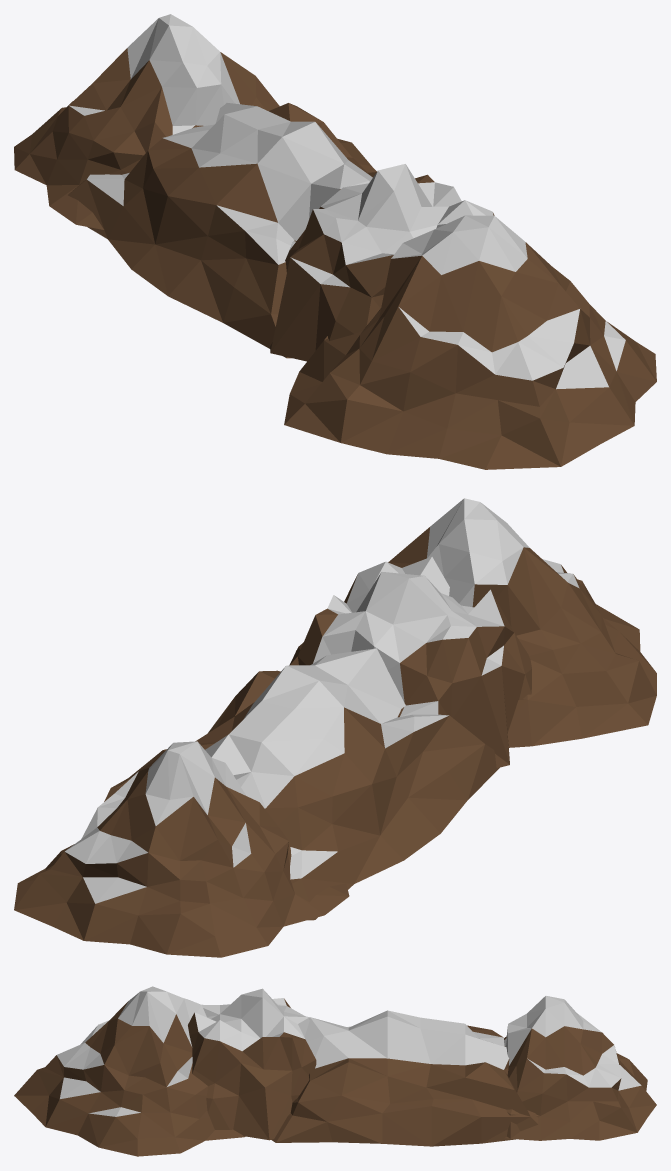
Rendered from mountainDN.fbx.
3 renders of one model, top to bottom at view 1: azimuth 30°, elevation 25°; view 2: azimuth 150°, elevation 25°; view 3: azimuth 270°, elevation 25°, orthographic. The views are drawn at different scales.
Parts seen in each view (by area): view 1: SM_mountain_group_W1; view 2: SM_mountain_group_W1; view 3: SM_mountain_group_W1.
Boxes of the visible parts, bbox=[...] form: SM_mountain_group_W1: bbox=[14, 14, 656, 469]; SM_mountain_group_W1: bbox=[14, 498, 656, 957]; SM_mountain_group_W1: bbox=[14, 986, 656, 1156].
Size of the model in its own units: 2762 by 6516 by 1290.
